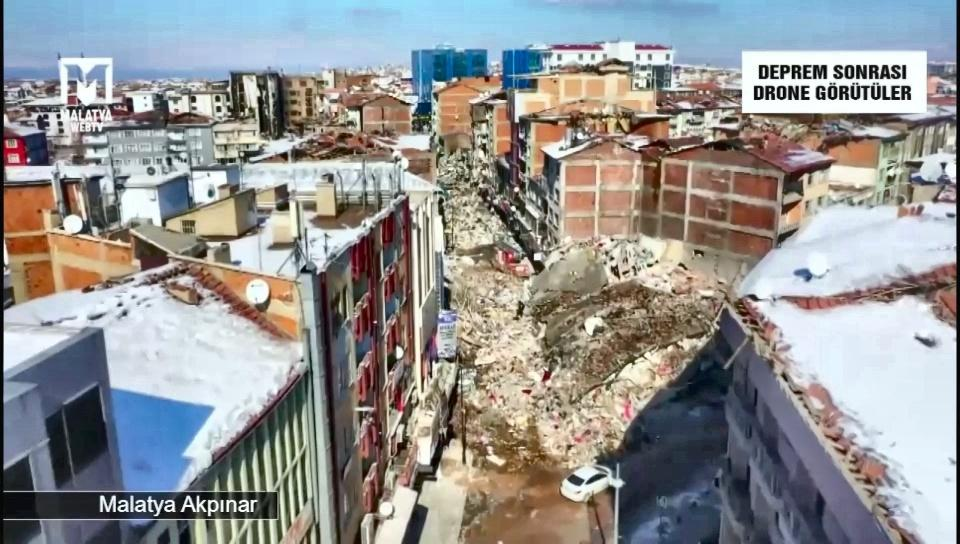kapali: (431, 254, 600, 492), (437, 149, 519, 256)
